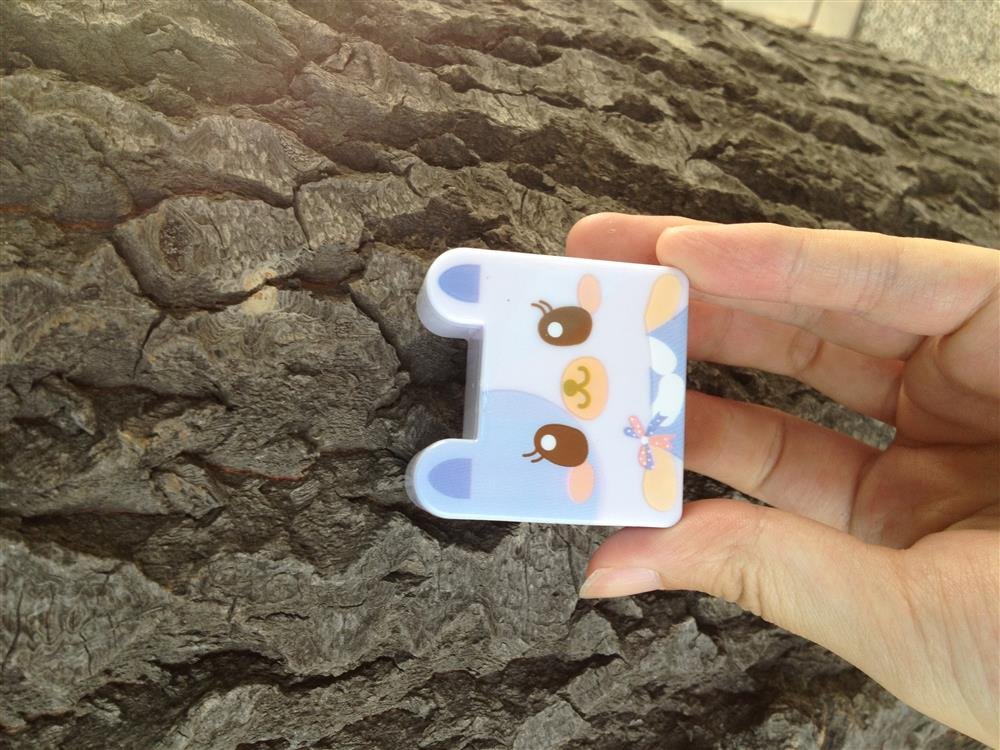dog_sharpener: (404, 247, 687, 529)
